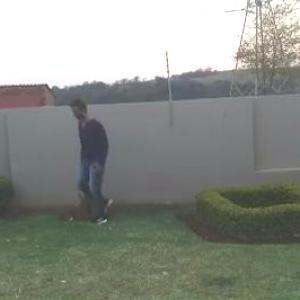follow: (79, 99, 115, 220)
